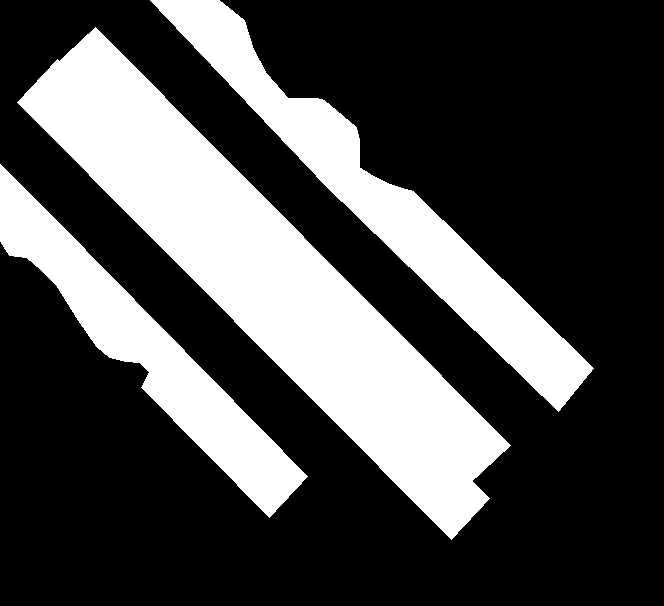parkingspot: (17, 59, 489, 539), (51, 27, 510, 483), (150, 0, 593, 411), (0, 164, 307, 517)
